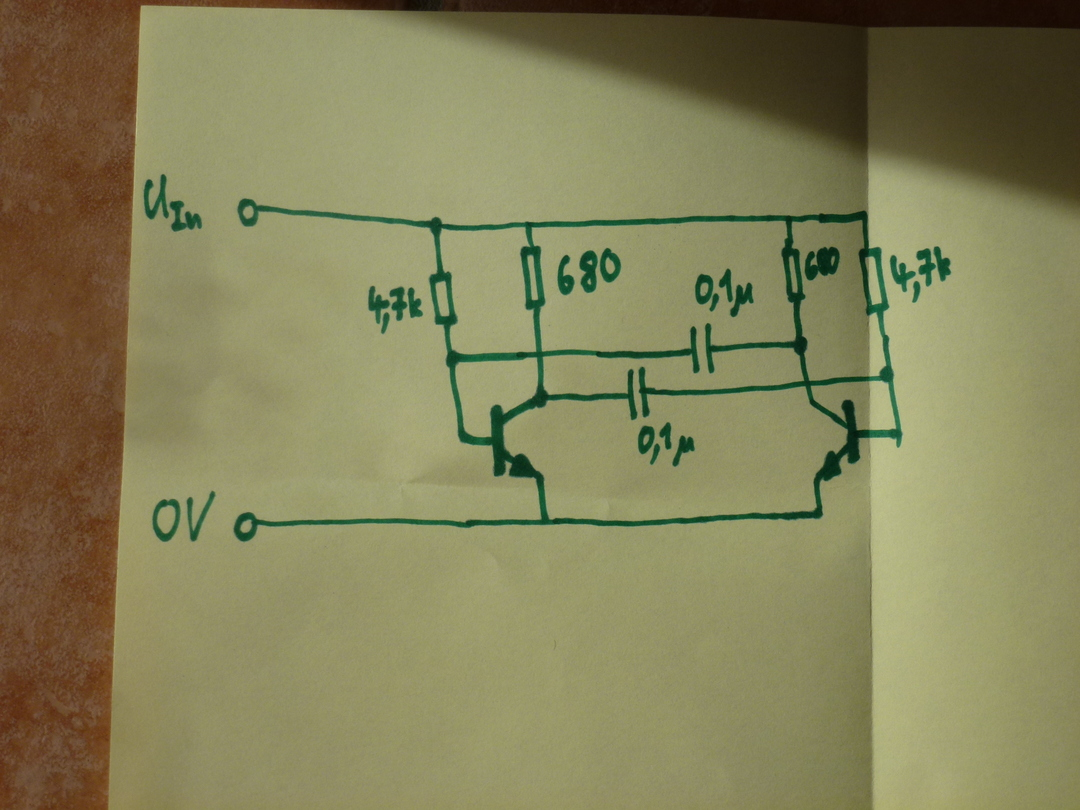capacitor.unpolarized: (687, 321, 718, 376), (623, 365, 653, 421)
crossover: (532, 346, 549, 363), (800, 375, 818, 391)
junction: (791, 334, 810, 358), (533, 386, 551, 410), (443, 348, 462, 370), (428, 214, 446, 237), (889, 426, 906, 449), (878, 364, 896, 384), (536, 514, 555, 530), (455, 429, 471, 447), (856, 207, 871, 223), (812, 505, 826, 522), (782, 211, 796, 226), (522, 219, 536, 232)
resistor: (857, 245, 891, 315), (518, 241, 549, 313), (427, 269, 461, 328), (779, 244, 807, 304)
terminal: (232, 510, 261, 543), (236, 196, 264, 229)
text: (141, 172, 204, 234), (888, 245, 953, 304), (150, 489, 217, 543), (555, 245, 624, 296), (693, 266, 755, 319), (366, 283, 425, 335), (636, 420, 698, 468), (803, 244, 841, 282)
transistor: (807, 398, 862, 483), (489, 397, 545, 480)
